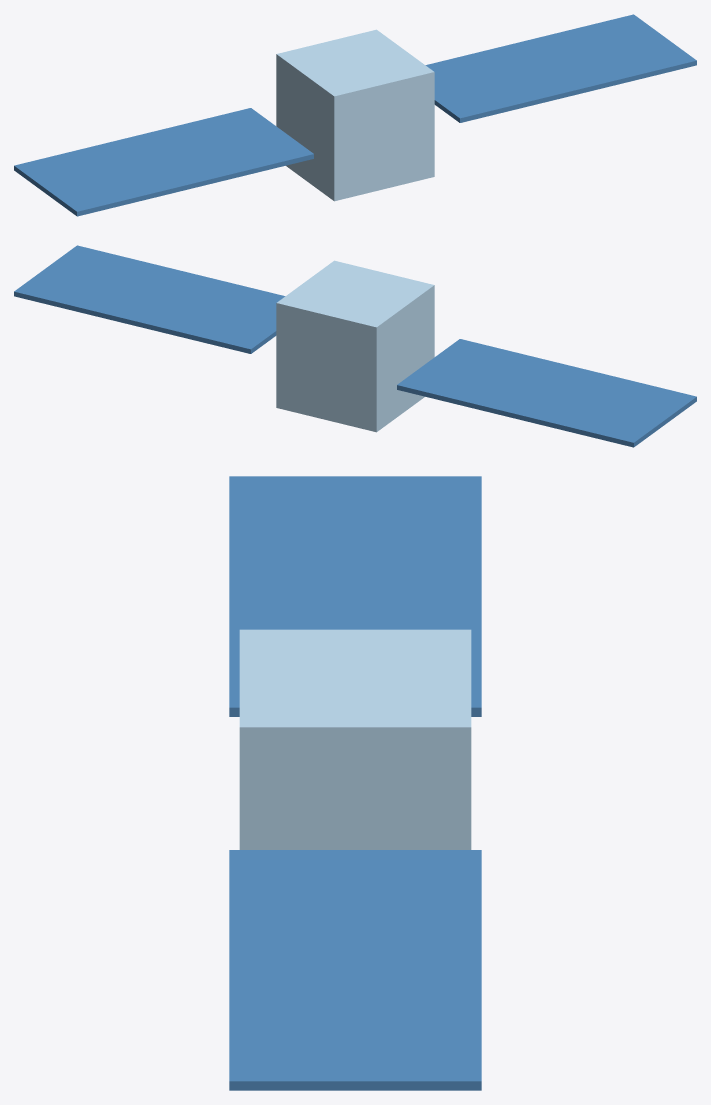
File: oneweb-box-wings.glb
The picture shows the model from 3 angles, top to bottom: view 1: azimuth 30°, elevation 25°; view 2: azimuth 150°, elevation 25°; view 3: azimuth 270°, elevation 25°; orthographic projection. The views are drawn at different scales.
Parts seen in each view (by area): view 1: oneweb-box-wings; view 2: oneweb-box-wings; view 3: oneweb-box-wings.
Part boxes in pixels (<box>): oneweb-box-wings: <box>14,14,696,216</box>; oneweb-box-wings: <box>14,245,696,447</box>; oneweb-box-wings: <box>229,476,481,1090</box>.
Bounding box in the file's own units: 6.8 × 1.1 × 1.2.
